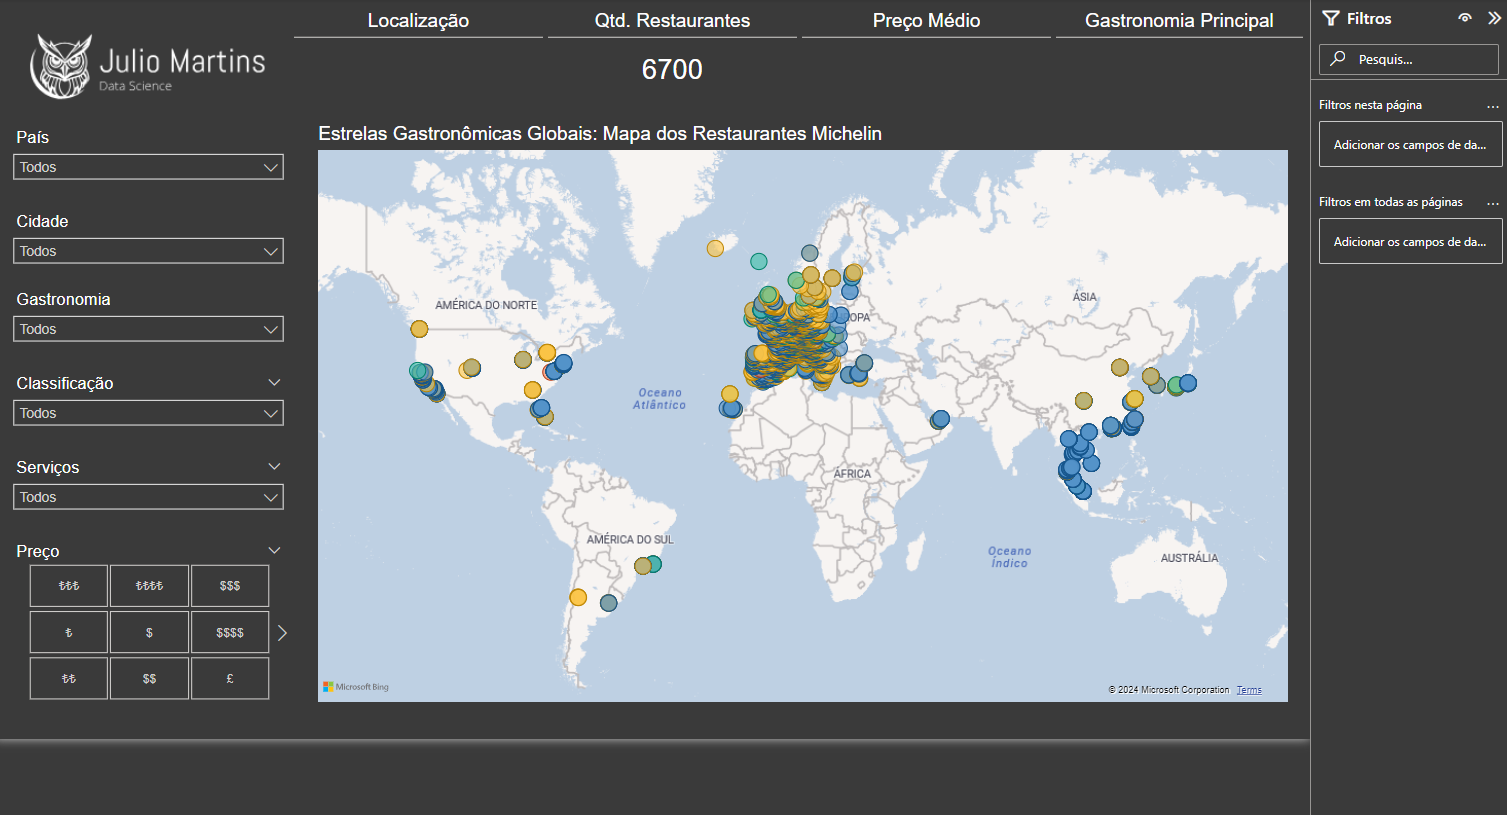

This screenshot's page, from the dashboard's own definition file:
{"tool":"powerbi","page":{"name":"Página 1","canvas":[1280,720],"ordinal":0},"visuals":[{"type":"map","title":"Estrelas Gastronômicas Globais: Mapa dos Restaurantes Michelin","fields":{"Y":["michelin_clean.Latitude"],"X":["michelin_clean.Longitude"]},"box":[310.3,120.6,953.2,568],"z":0},{"type":"slicer","fields":{"Values":["michelin_clean.Country"]},"box":[8.8,120.6,283,81.7],"z":1000},{"type":"slicer","fields":{"Values":["michelin_clean.City"]},"box":[8.8,202.3,283,81.7],"z":2000},{"type":"slicer","fields":{"Values":["michelin_clean.Cuisine"]},"box":[8.8,278.2,283,81.7],"z":3000},{"type":"slicer","fields":{"Values":["michelin_clean.Award"]},"box":[8.8,359.9,283,81.7],"z":4000},{"type":"slicer","fields":{"Values":["michelin_clean.FacilitiesAndServices"]},"box":[8.8,441.6,283,81.7],"z":5000},{"type":"slicer","fields":{"Values":["michelin_clean.Price"]},"box":[8.8,523.3,283,165.3],"z":6000},{"type":"card","title":"Localização","fields":{"Values":["michelin_clean.selected_location"]},"box":[291.8,10.7,242.2,87.5],"z":7000},{"type":"card","title":"Qtd. Restaurantes","fields":{"Values":["michelin_clean.SomaRestaurantes"]},"box":[538.8,10.7,242.2,87.5],"z":8000},{"type":"card","title":"Preço Médio","fields":{"Values":["michelin_clean.Display Average Price"]},"box":[785.9,10.7,242.2,87.5],"z":9000},{"type":"card","title":"Gastronomia Principal","fields":{"Values":["michelin_clean.Culinaria_Predominante"]},"box":[1032.9,10.7,240.2,87.5],"z":10000},{"type":"image","box":[8.8,10.7,283,109.9],"z":11000}]}

Visuals, with their boxes on the page's 1280x720 design canvas (x1, y1, x2, y2). These are canvas units, not pixel positions in the 1507x815 screenshot, which may show the page scaled, cropped or inside an application window:
"Estrelas Gastronômicas Globais: Mapa dos Restaurantes Michelin" map: 310 121 1264 689
slicer - michelin_clean.Country: 9 121 292 202
slicer - michelin_clean.City: 9 202 292 284
slicer - michelin_clean.Cuisine: 9 278 292 360
slicer - michelin_clean.Award: 9 360 292 442
slicer - michelin_clean.FacilitiesAndServices: 9 442 292 523
slicer - michelin_clean.Price: 9 523 292 689
"Localização" card: 292 11 534 98
"Qtd. Restaurantes" card: 539 11 781 98
"Preço Médio" card: 786 11 1028 98
"Gastronomia Principal" card: 1033 11 1273 98
image: 9 11 292 121
